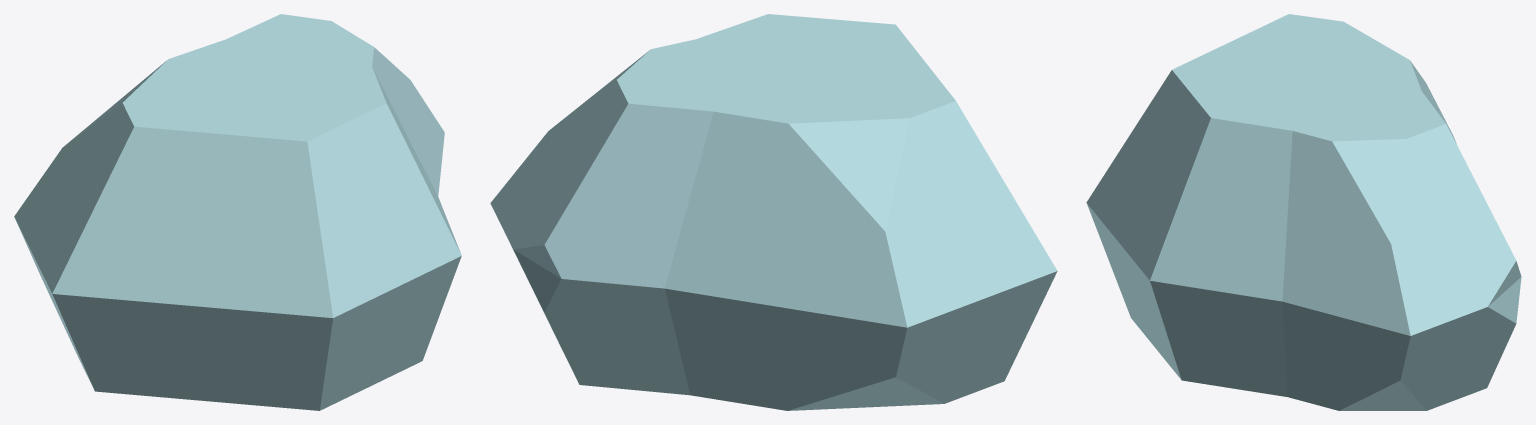
Rendered from support2.fbx.
The picture shows the model from 3 angles, left to right: view 1: azimuth 30°, elevation 25°; view 2: azimuth 150°, elevation 25°; view 3: azimuth 270°, elevation 25°; orthographic projection. The views are drawn at different scales.
Parts seen in each view (by area): view 1: mergedBlocks; view 2: mergedBlocks; view 3: mergedBlocks.
Boxes of the visible parts, x1,y1,x2,y2 form: mergedBlocks: (14,14,461,410); mergedBlocks: (490,14,1057,410); mergedBlocks: (1086,14,1521,410).
Size of the model in its own units: 10.95 by 5.75 by 8.99.
